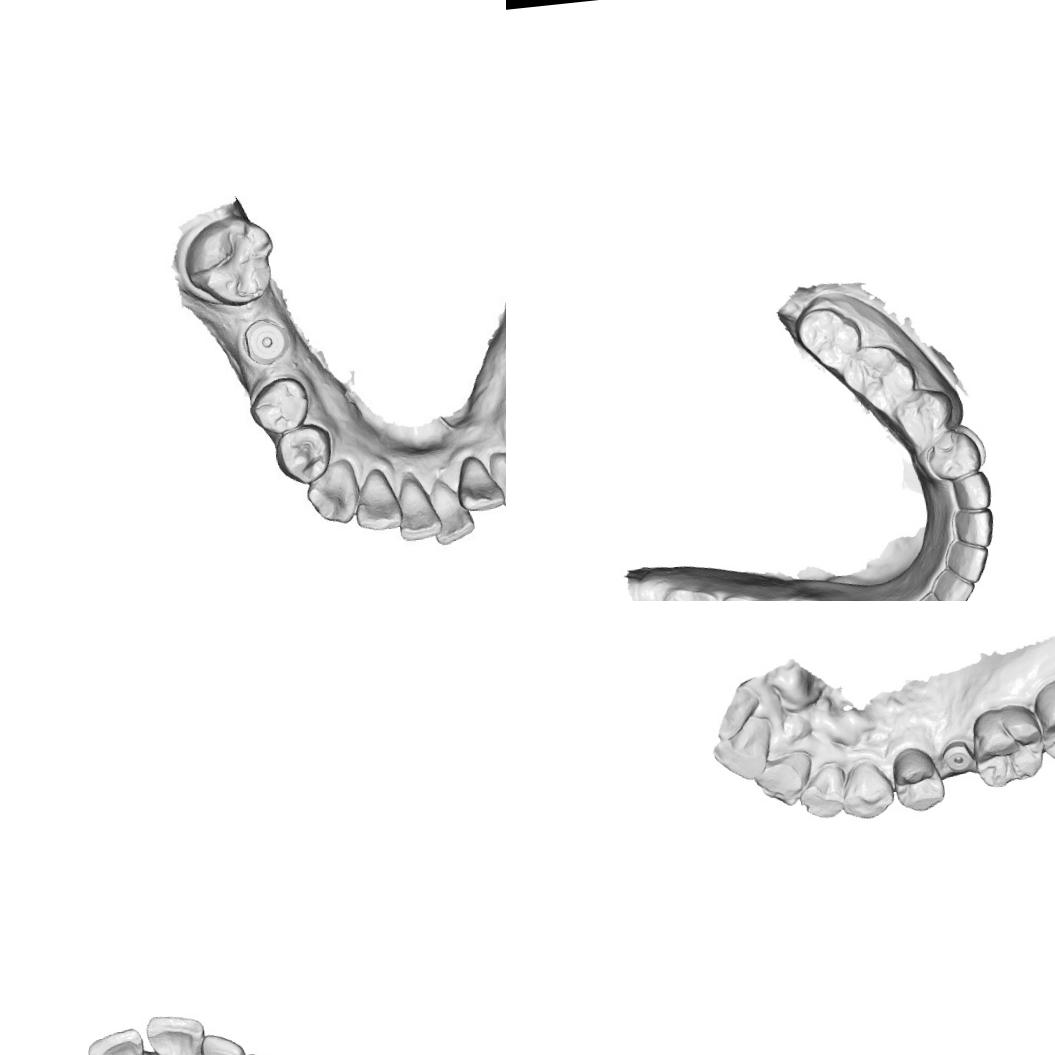canine: (303, 455, 359, 528), (838, 756, 898, 822), (948, 468, 994, 514), (492, 449, 506, 507)
implant: (239, 310, 289, 368), (942, 736, 975, 777)
incisor: (707, 714, 778, 784), (350, 460, 408, 532), (752, 747, 817, 810), (426, 476, 478, 546), (794, 760, 850, 822), (396, 474, 444, 540), (454, 450, 503, 513), (144, 1010, 210, 1055), (942, 534, 992, 587), (949, 504, 997, 552), (84, 1025, 151, 1055), (928, 563, 977, 601), (197, 1029, 250, 1055), (910, 588, 955, 601)
molar: (180, 214, 288, 309), (968, 700, 1048, 791), (838, 340, 920, 417), (793, 303, 866, 375), (1029, 668, 1055, 764), (658, 582, 725, 601)
premolar: (886, 742, 948, 815), (889, 384, 957, 450), (274, 421, 336, 485), (246, 374, 310, 434), (923, 428, 984, 484)
